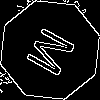M: (25, 25, 85, 84)
